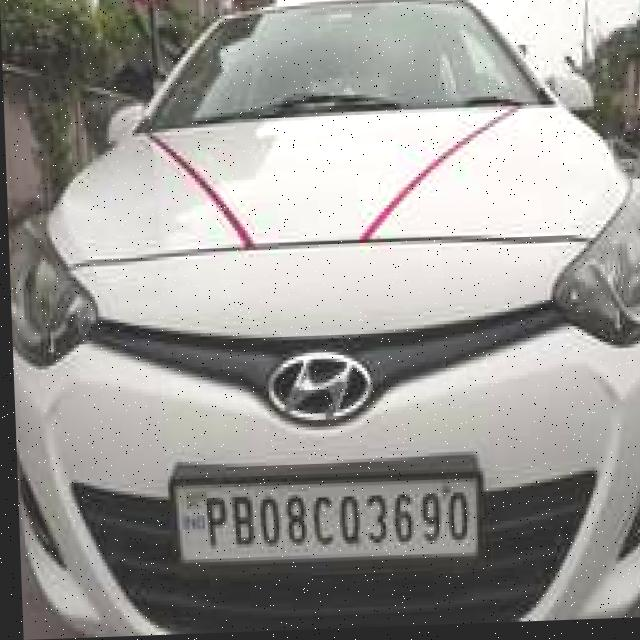plate: (162, 451, 487, 578)
